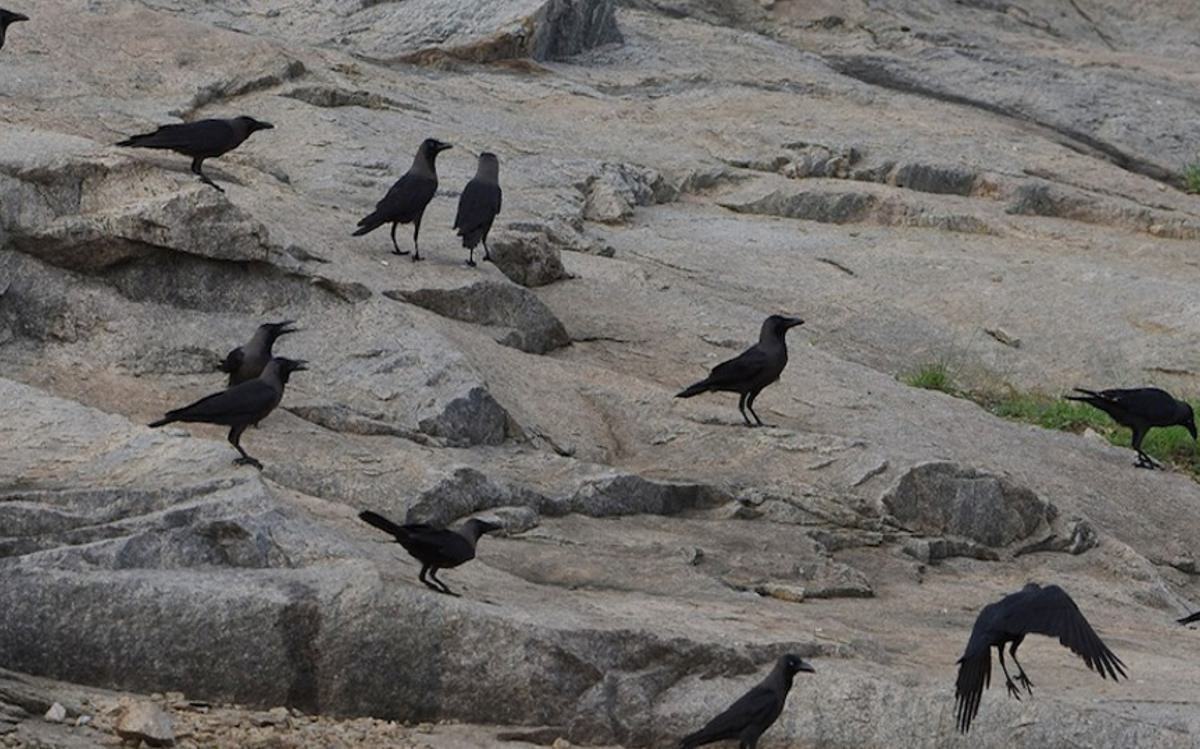crow: (948, 576, 1124, 714), (689, 309, 823, 426), (361, 500, 512, 602), (180, 353, 310, 467), (94, 117, 283, 191), (1057, 370, 1200, 465), (356, 135, 459, 263), (682, 659, 823, 743), (443, 145, 521, 278), (216, 307, 307, 382)
